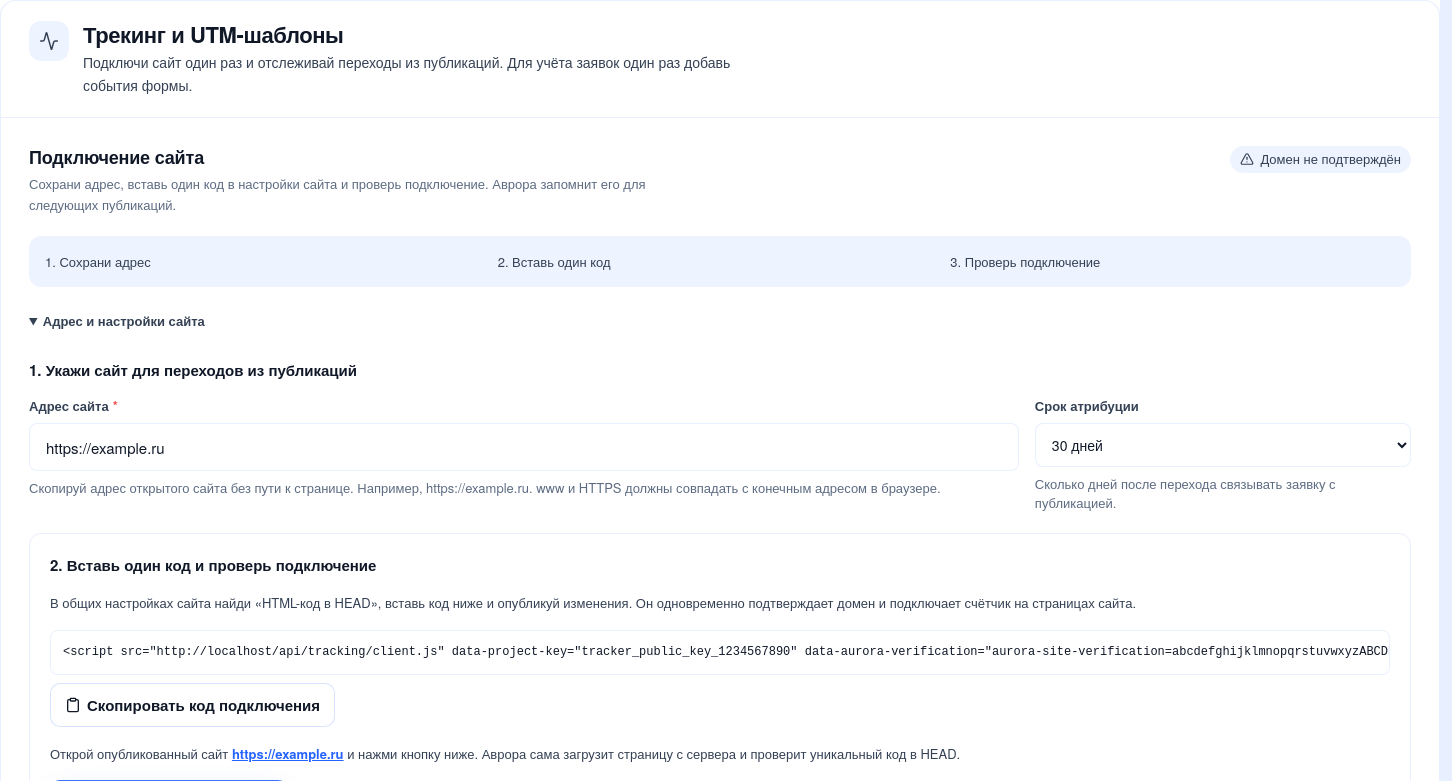
Scenario: tracking setup journey › shows persisted verification failures and prevents verification of unsaved changes
Type "https://new.example.ru" into the field labelled "Адрес сайта*" at (524, 447), box [29,423,1019,471]
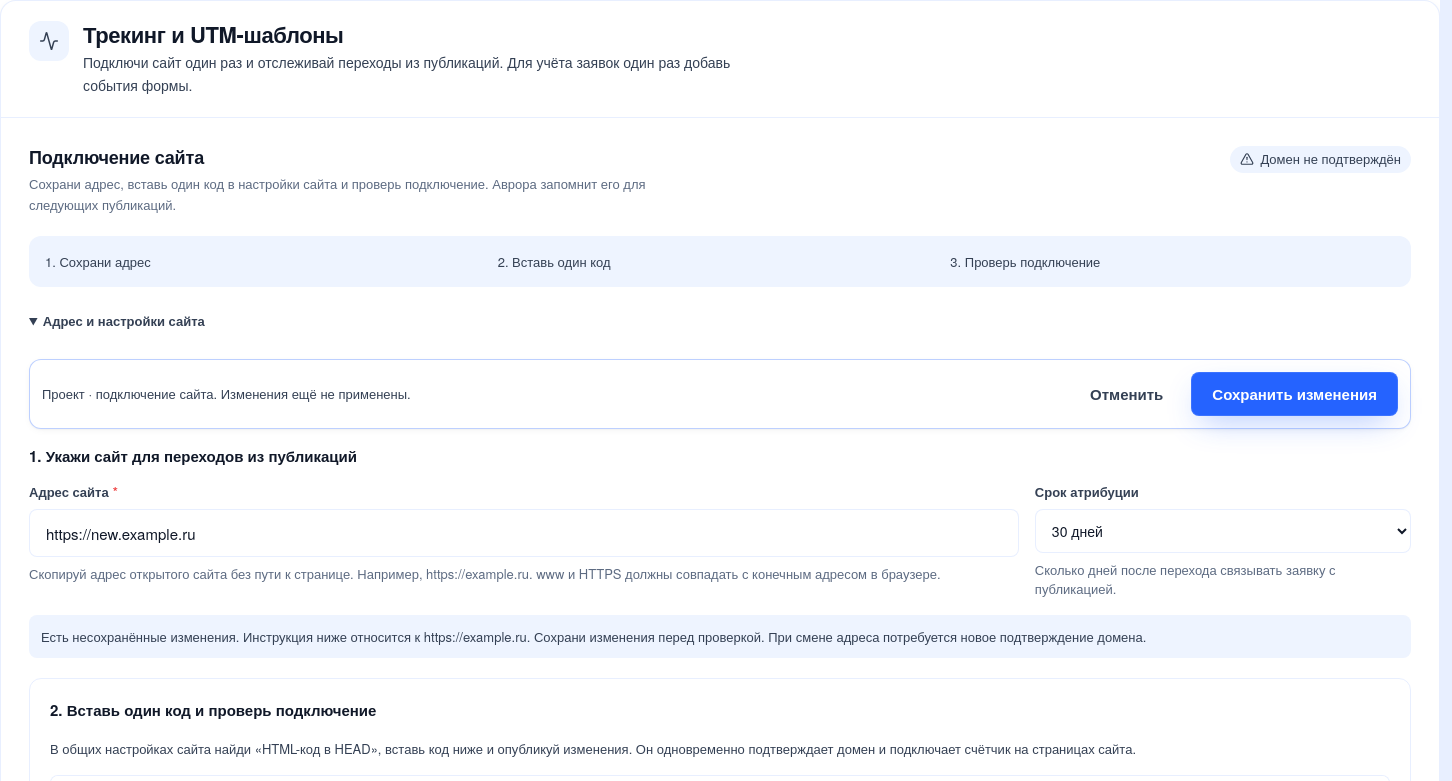
Now the text "Инструкция ниже относится к https://example.ru" is shown, box [29,615,1411,658]
